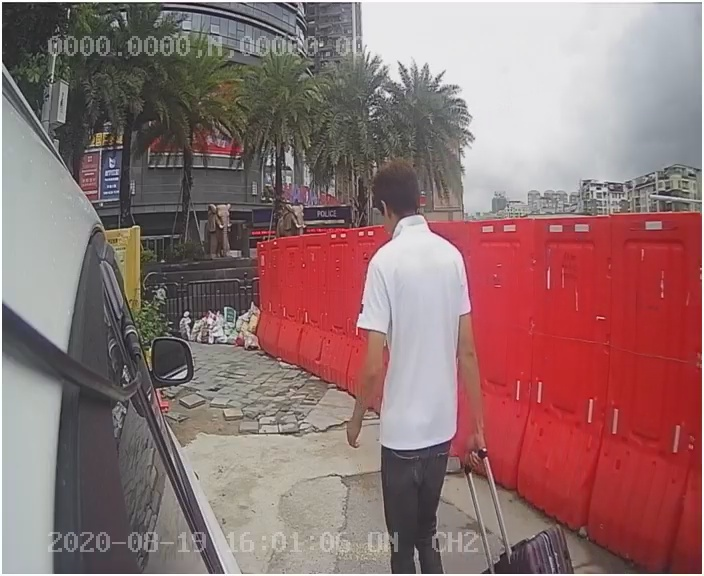person: (326, 167, 496, 524)
